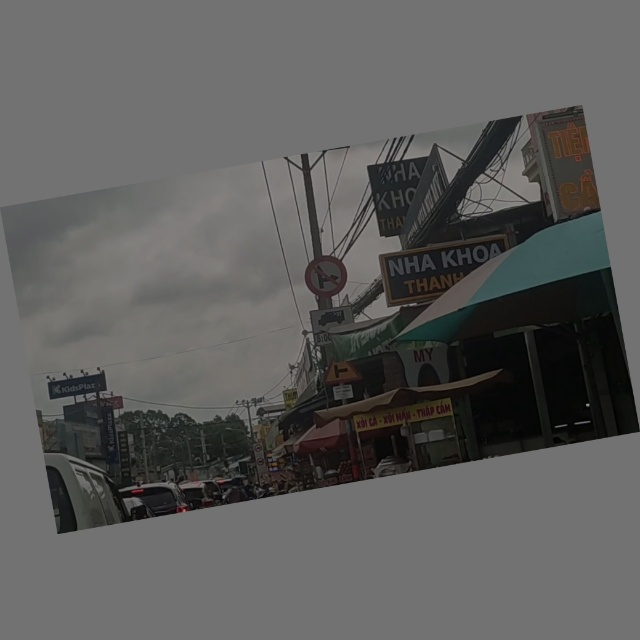P.139: (302, 255, 349, 299)
S.505a*Xe tai: (310, 305, 353, 335)
W.205b: (320, 362, 363, 384)
